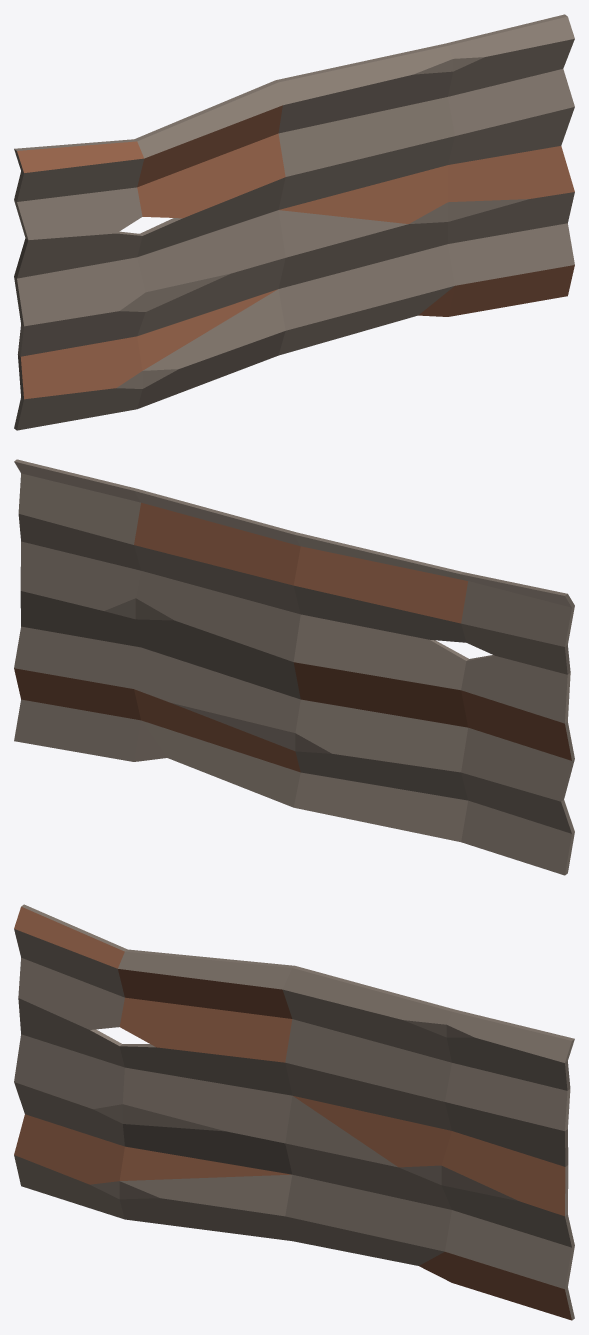
File: model_corrugated_metal_02.fbx
The picture shows the model from 3 angles, top to bottom: view 1: azimuth 30°, elevation 25°; view 2: azimuth 150°, elevation 25°; view 3: azimuth 330°, elevation 25°; orthographic projection.
Parts seen in each view (by area): view 1: model_corrugated_metal_02; view 2: model_corrugated_metal_02; view 3: model_corrugated_metal_02.
Boxes of the visible parts, box(x1,y1,x2,y2) form: model_corrugated_metal_02: box(14, 14, 574, 430); model_corrugated_metal_02: box(14, 459, 574, 875); model_corrugated_metal_02: box(14, 904, 574, 1320).
Size of the model in its own units: 362 by 176 by 26.37.
Materials: 1 (1 with a texture image).
